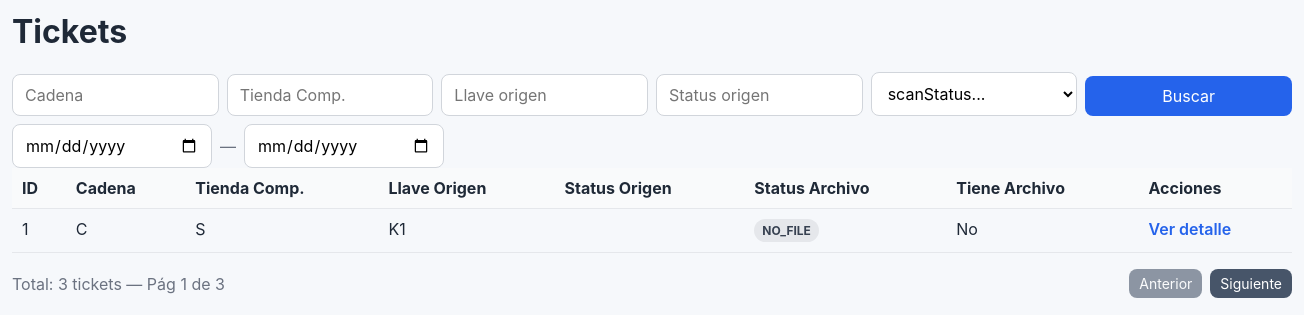
it: TicketsPage › navigates to next page
Expected: the text "K1" is shown, x1=378 y1=209 x2=554 y2=253
What coordinates should you click on to do the following:
click the button "Siguiente"
I would click on:
 (1251, 284)
Its box is x1=1210 y1=269 x2=1292 y2=298.
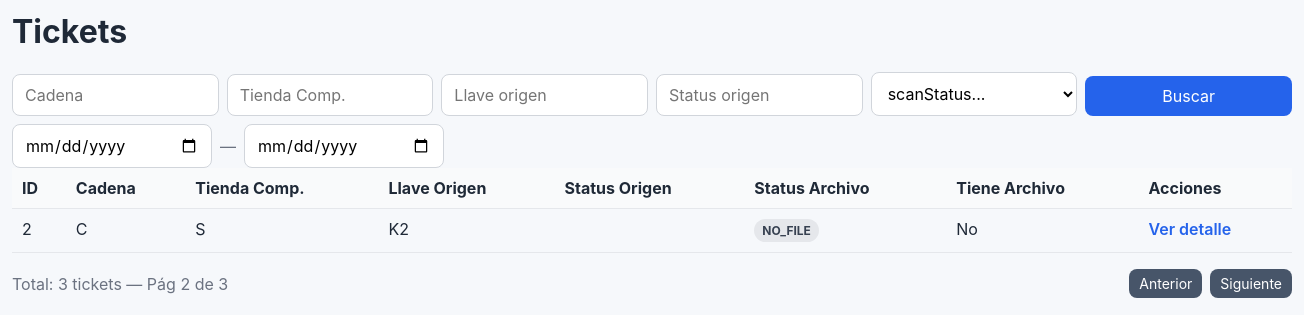
Result: the text "K2" is shown at x1=378 y1=209 x2=554 y2=253
